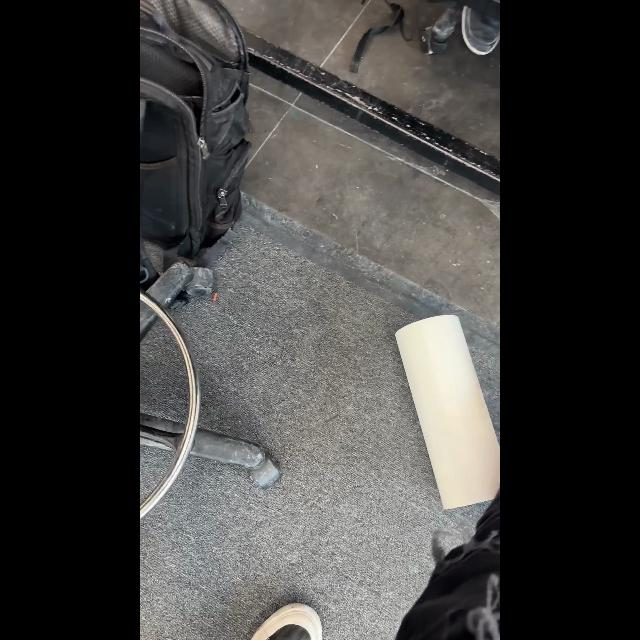CORAL: (394, 313, 498, 509)
